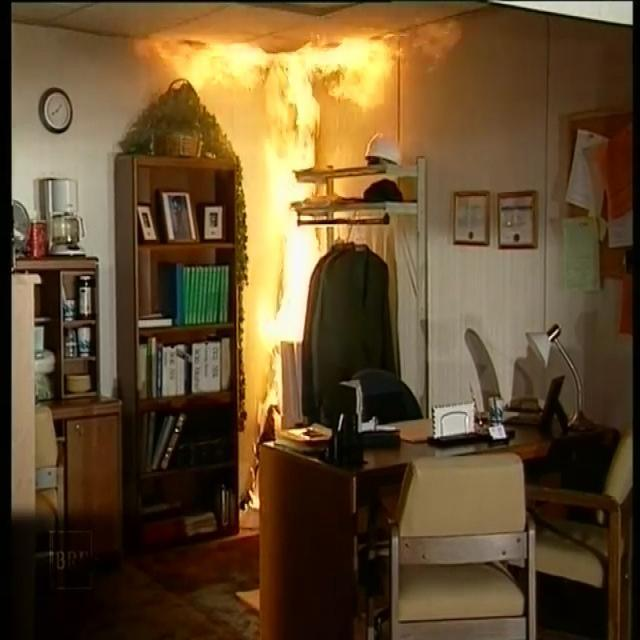Fire: (106, 10, 476, 300)
